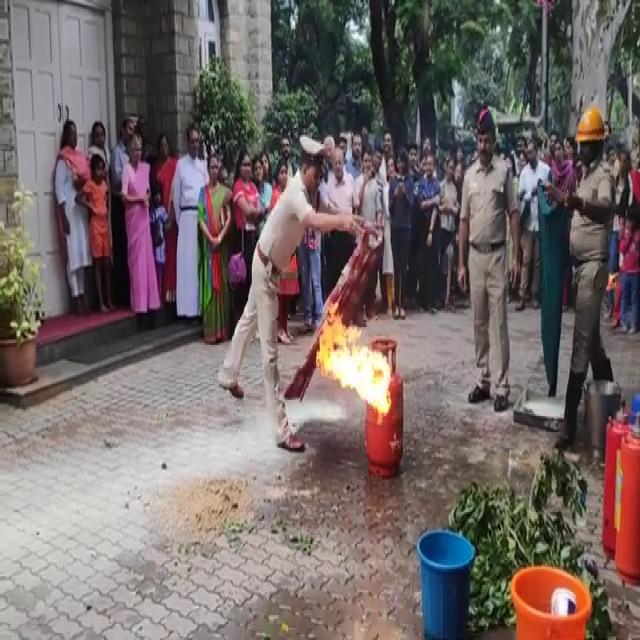fire: (306, 298, 408, 430)
